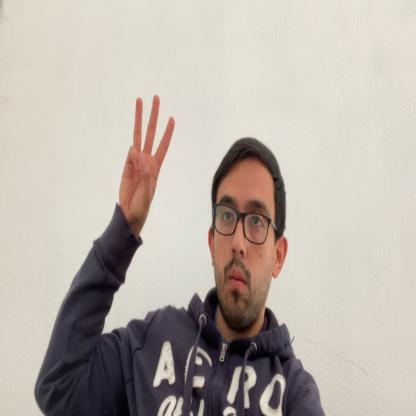W: (119, 93, 175, 228)
